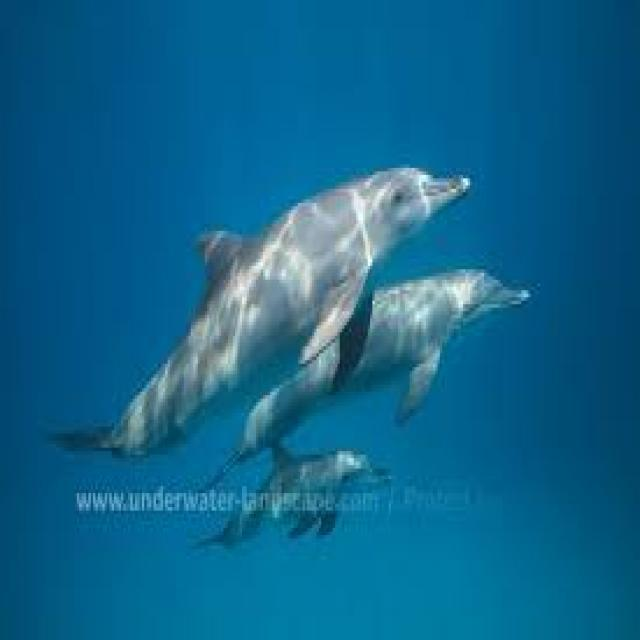dolphin: (58, 136, 477, 458), (251, 255, 575, 430)
